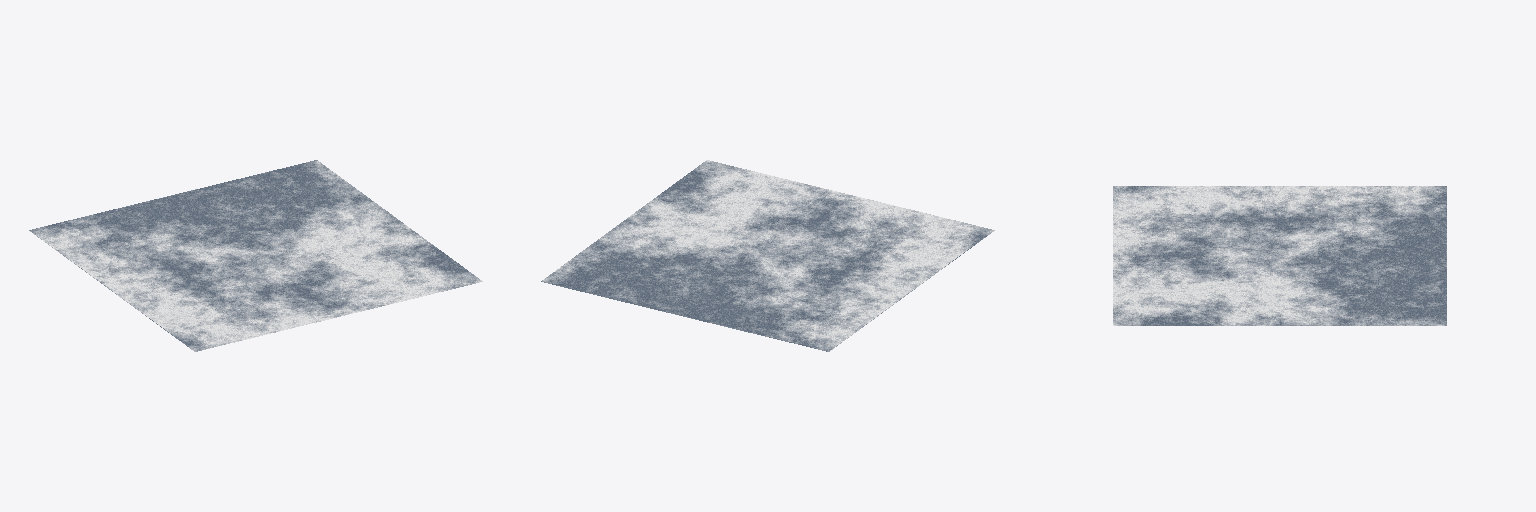
3 renders of one model, left to right at view 1: azimuth 30°, elevation 25°; view 2: azimuth 150°, elevation 25°; view 3: azimuth 270°, elevation 25°, orthographic.
Parts seen in each view (by area): view 1: Plane; view 2: Plane; view 3: Plane.
Boxes of the visible parts, box(x1,y1,x2,y2) form: Plane: box(29, 160, 482, 351); Plane: box(541, 160, 994, 351); Plane: box(1113, 186, 1446, 325).
Size of the model in its own units: 15.9 by 0 by 15.9.
1 materials, 1 textured.